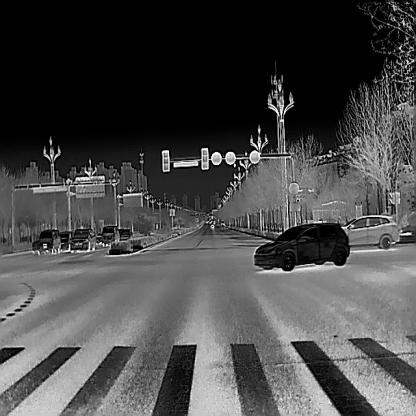car: (252, 222, 350, 271), (338, 214, 400, 249), (68, 226, 96, 252), (36, 228, 61, 254), (101, 224, 119, 246), (59, 229, 72, 251), (119, 228, 132, 242), (209, 223, 214, 230), (220, 223, 225, 229)
